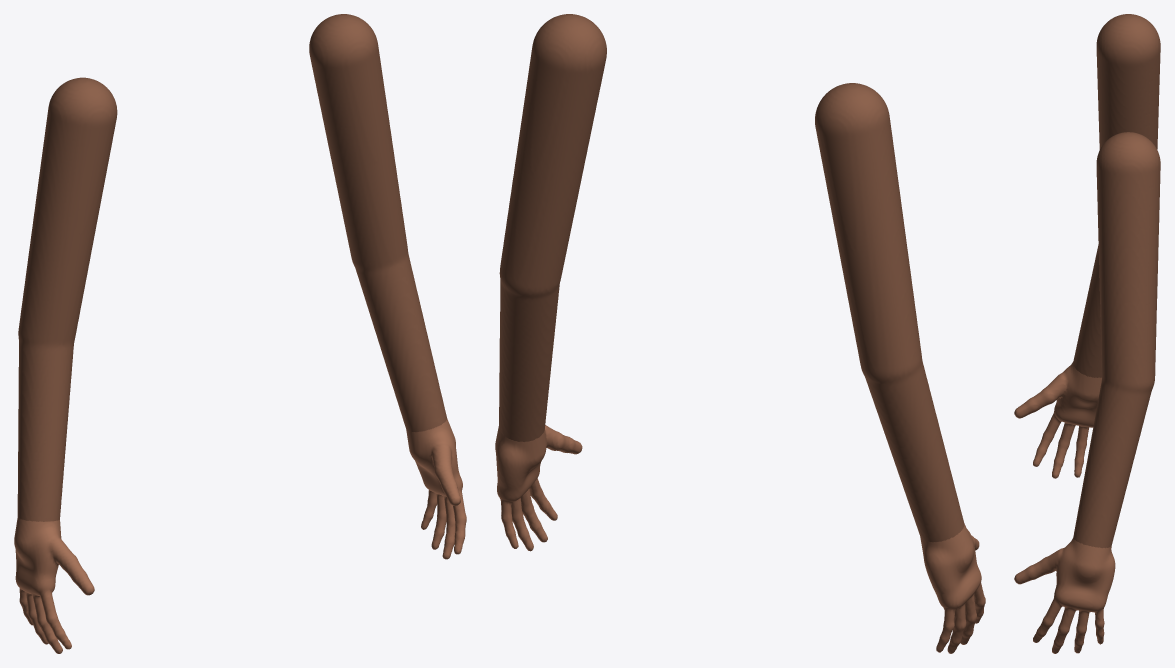
The model's file is hands-spread.glb.
The picture shows the model from 3 angles, left to right: view 1: azimuth 30°, elevation 25°; view 2: azimuth 150°, elevation 25°; view 3: azimuth 270°, elevation 25°; orthographic projection. The views are drawn at different scales.
Visible parts, largest first — view 1: arms, hands; view 2: arms, hands; view 3: arms, hands.
Part boxes in pixels (bbox=[...]): arms: bbox=[17, 14, 446, 521]; hands: bbox=[14, 418, 466, 653]; arms: bbox=[499, 14, 964, 542]; hands: bbox=[495, 425, 985, 653]; arms: bbox=[1073, 14, 1160, 548]; hands: bbox=[1014, 362, 1115, 653].
Bounding box in the file's own units: 0.6674 × 0.774 × 0.2095.
